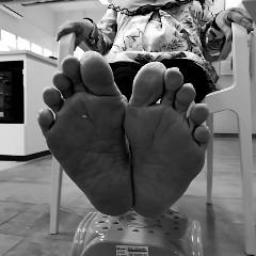Plantar View -Both Feet-: (15, 50, 234, 221)
